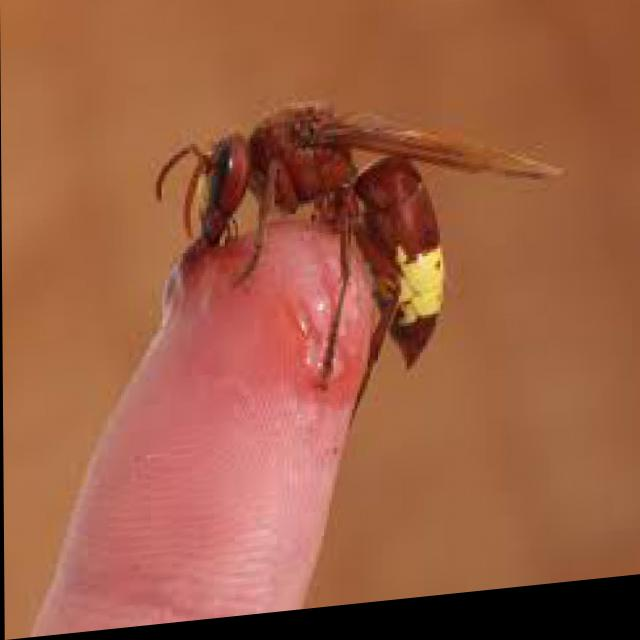Vespa Orientalis: (146, 50, 573, 443)
